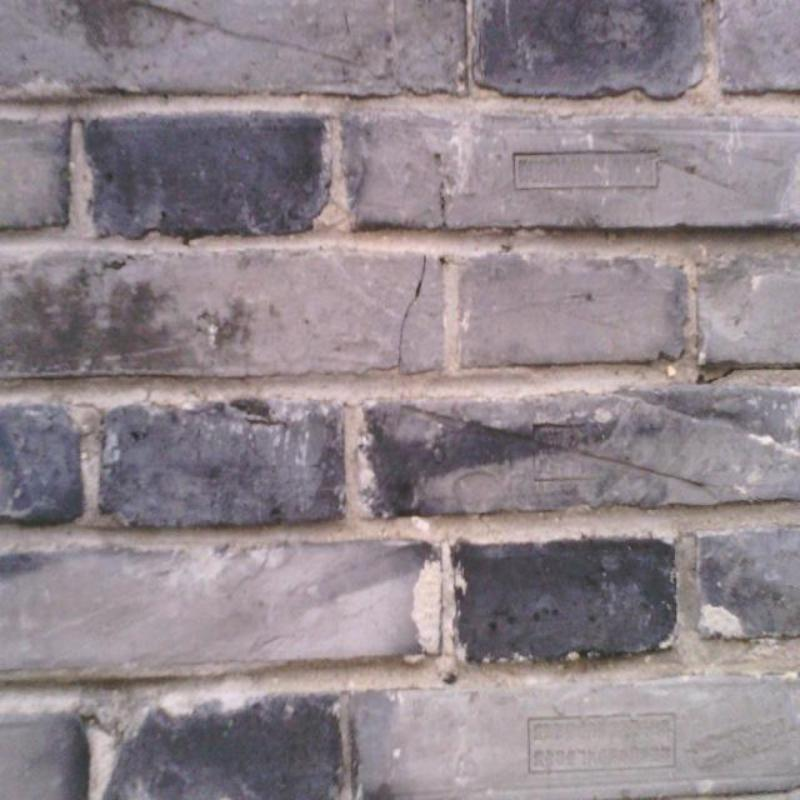pothole: (397, 254, 426, 368)
